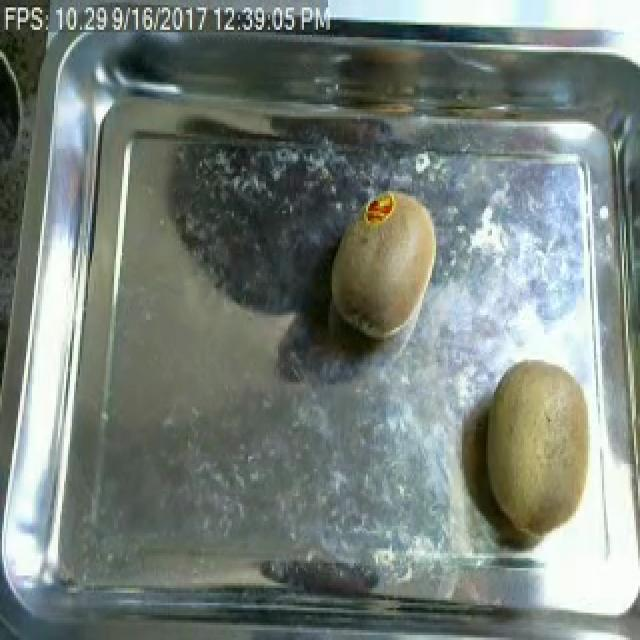Fruit: (470, 352, 610, 544), (322, 184, 444, 347)
